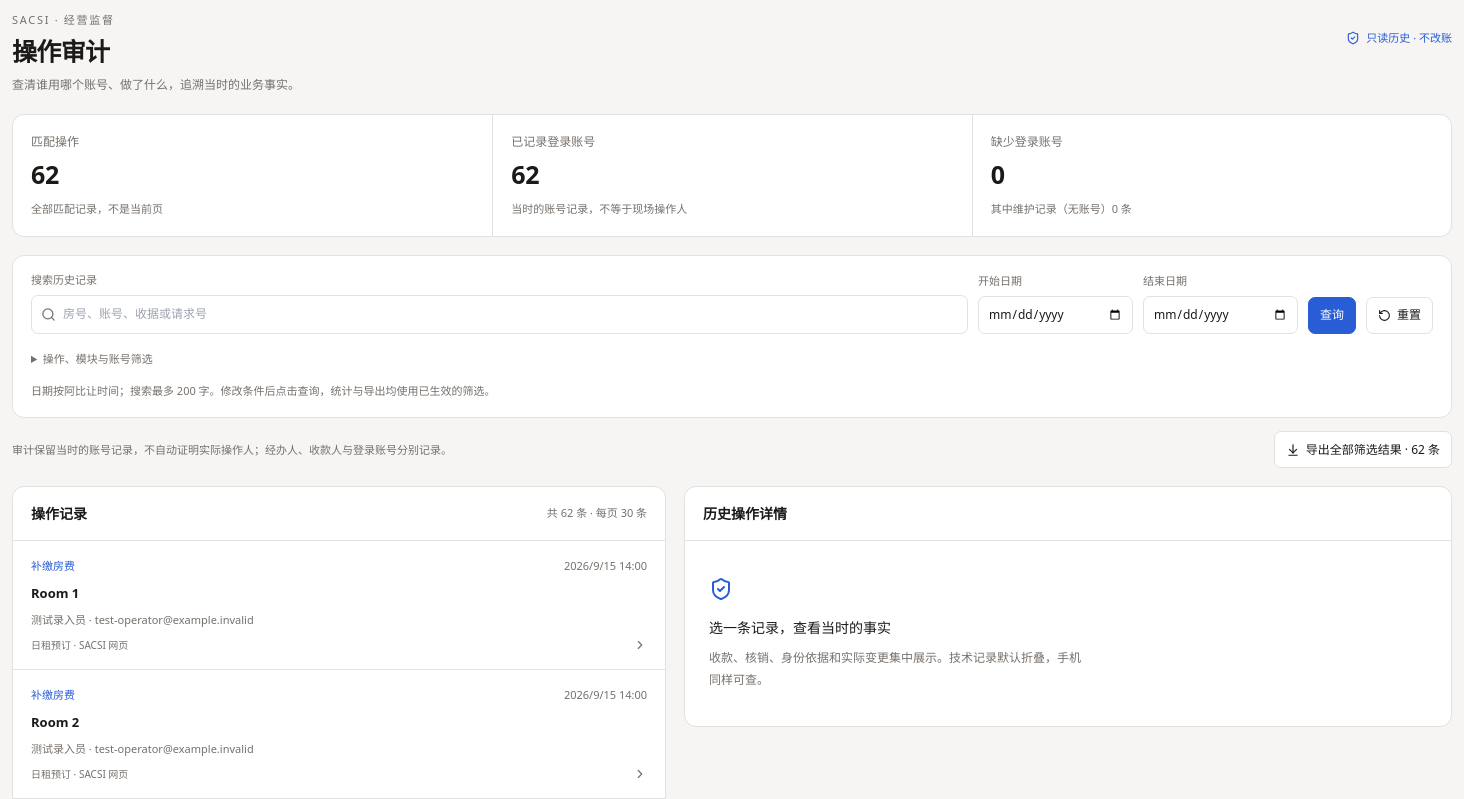
paged audit workbench › replaces an initial snapshot and aborts old detail on same-account SSR refresh
The image size is (1464, 799).
Click the 4th button. click: click(53, 566)
box: [13, 541, 665, 669]
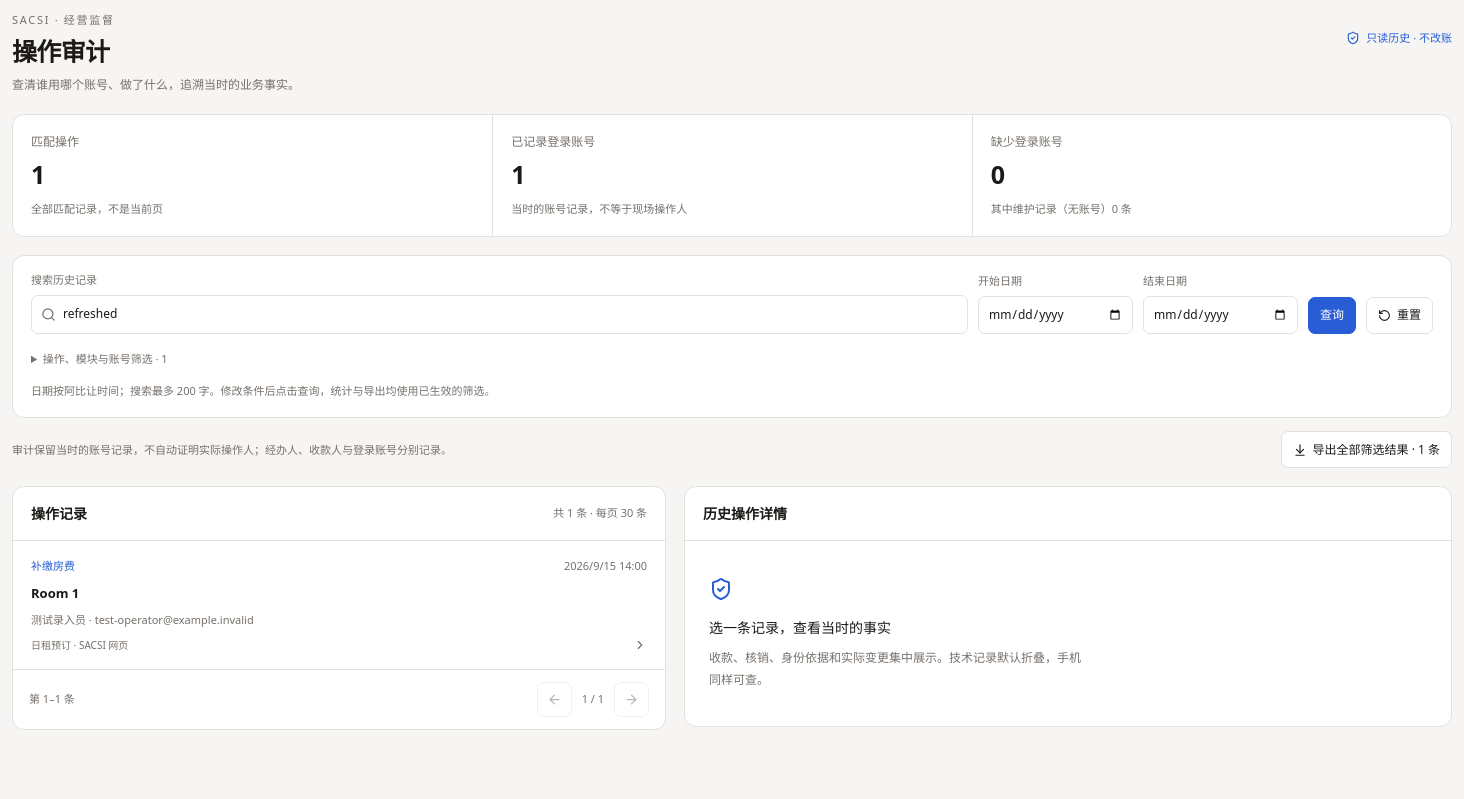
Expected: the search field named "search" holds "refreshed", [63, 296, 958, 333]
